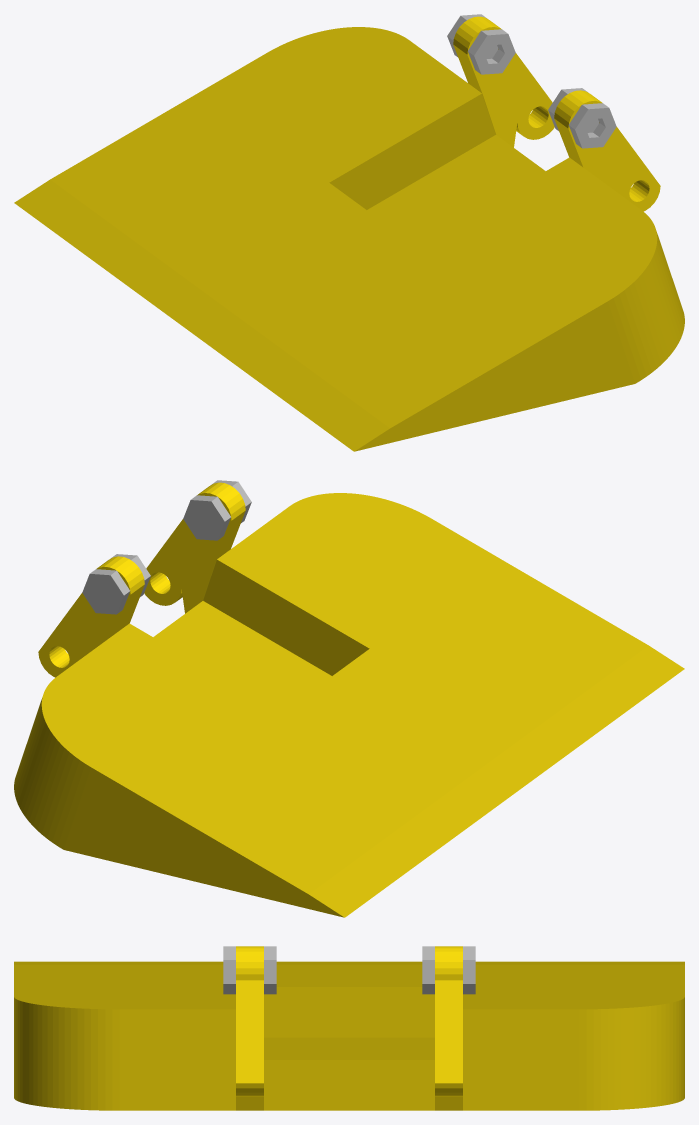
Rendered from chanban.glb.
The picture shows the model from 3 angles, top to bottom: view 1: azimuth 30°, elevation 25°; view 2: azimuth 150°, elevation 25°; view 3: azimuth 270°, elevation 25°; orthographic projection.
Visible parts, largest first — view 1: 铲板, 铲板后端, 铲板螺丝2, 铲板螺丝1; view 2: 铲板, 铲板后端, 铲板螺丝1, 铲板螺丝2; view 3: 铲板, 铲板后端, 铲板螺丝1, 铲板螺丝2.
Part boxes in pixels (bbox=[...]): 铲板: bbox=[14, 27, 684, 451]; 铲板后端: bbox=[453, 16, 660, 211]; 铲板螺丝2: bbox=[447, 14, 515, 74]; 铲板螺丝1: bbox=[548, 88, 616, 148]; 铲板: bbox=[14, 493, 684, 917]; 铲板后端: bbox=[38, 482, 245, 677]; 铲板螺丝1: bbox=[183, 480, 251, 540]; 铲板螺丝2: bbox=[82, 554, 150, 614]; 铲板: bbox=[14, 961, 684, 1110]; 铲板后端: bbox=[236, 946, 462, 1110]; 铲板螺丝1: bbox=[223, 946, 276, 994]; 铲板螺丝2: bbox=[422, 946, 475, 994].
Bounding box in the file's own units: 2.28 × 0.955 × 3.2.
